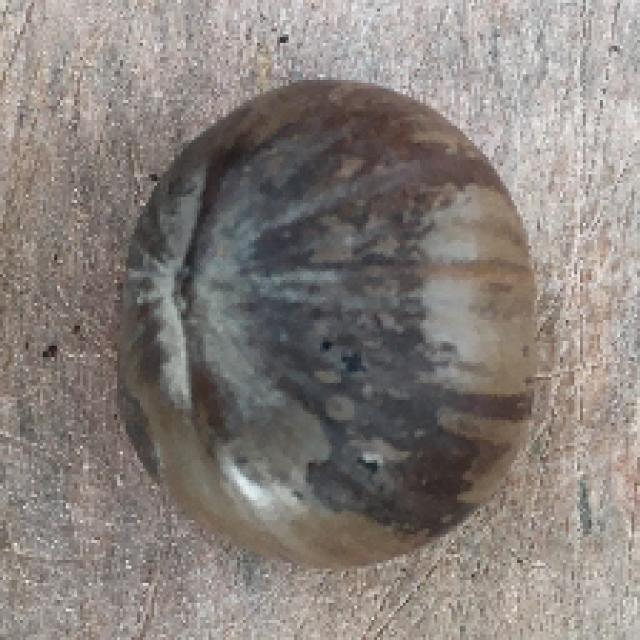DamagedHazelnut: (112, 77, 541, 572)
